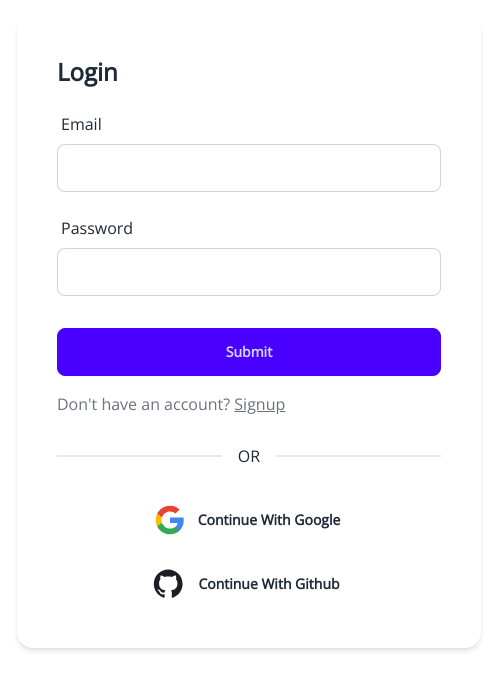
Scenario: /login › should show validation errors for empty fields
Click the button "Submit". click: (249, 352)
box: [57,328,441,376]
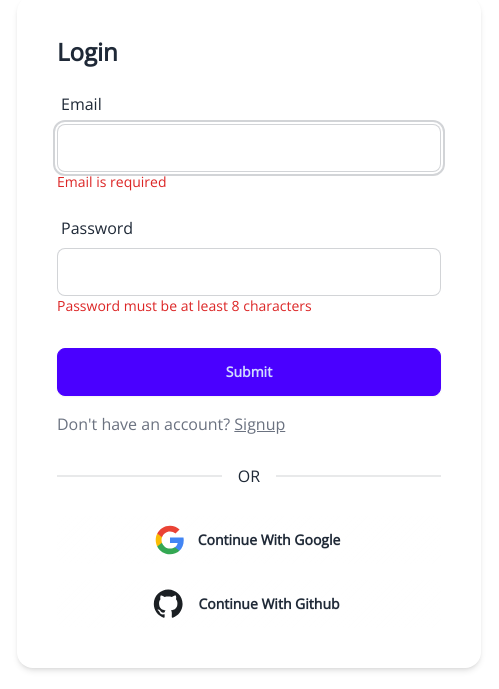
Now the text "Email is required" is shown, box [57,172,166,191]
Now the text "Password must be at least 8 characters" is shown, box [57,296,312,315]
